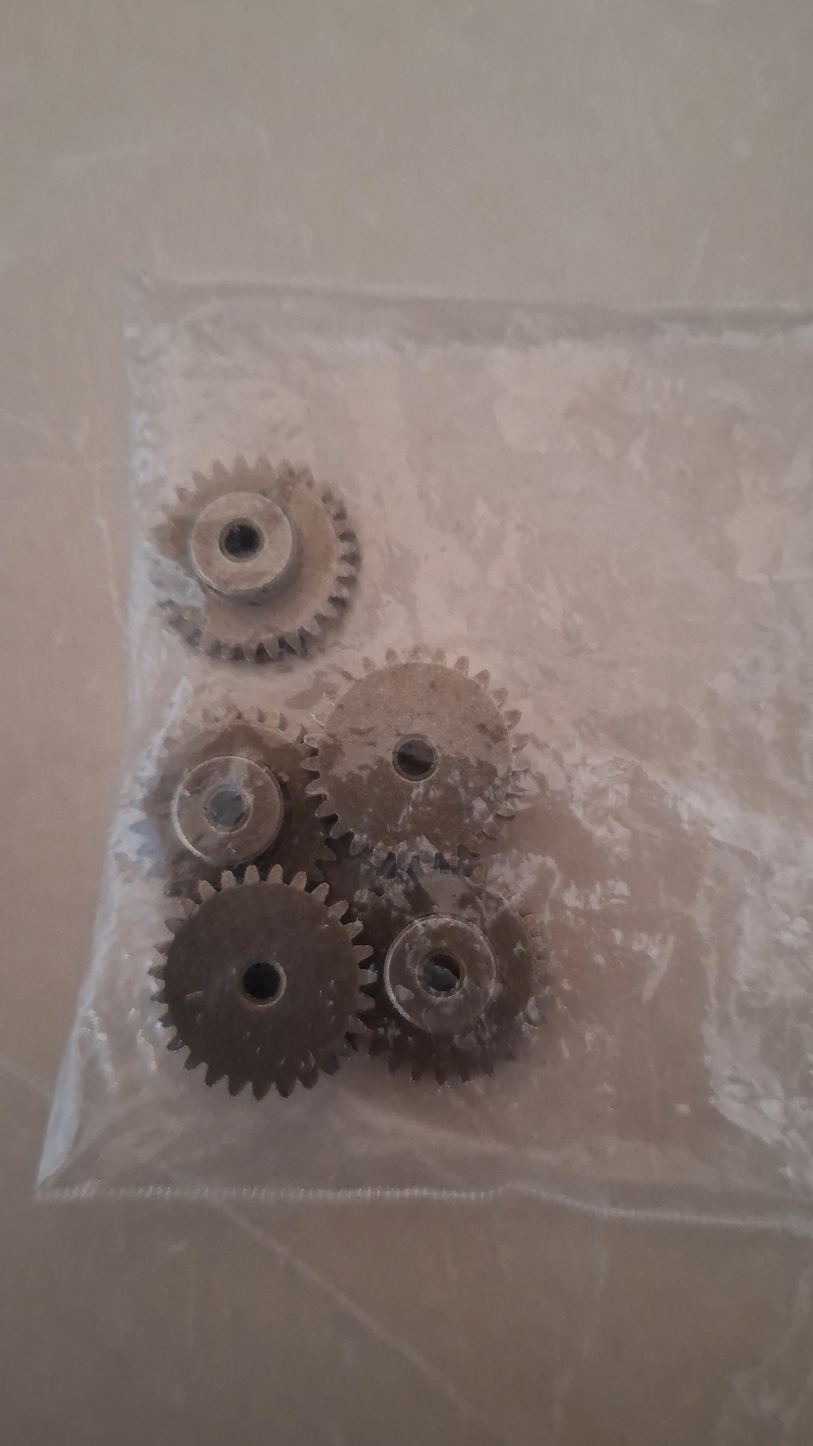spur gear: (152, 866, 372, 1098), (305, 648, 525, 868), (154, 458, 357, 660), (356, 870, 547, 1083), (144, 707, 332, 891)
